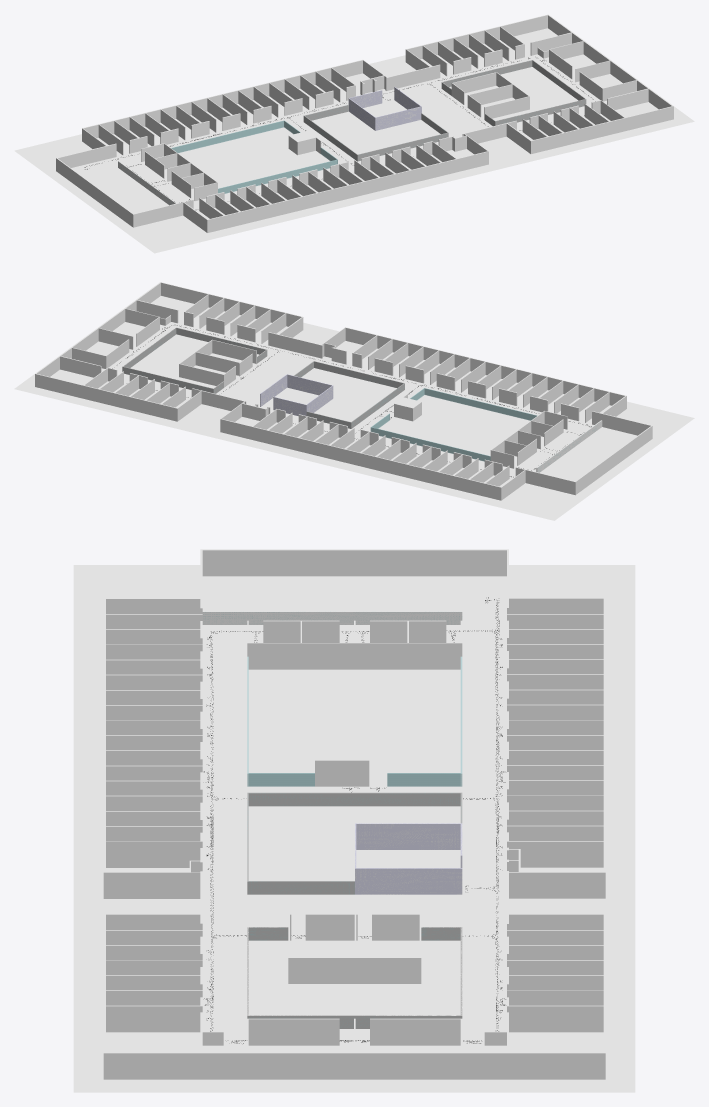
File: cic.dae
3 renders of one model, top to bottom at view 1: azimuth 30°, elevation 25°; view 2: azimuth 150°, elevation 25°; view 3: azimuth 270°, elevation 25°, orthographic. The views are drawn at different scales.
Parts seen in each view (by area): view 1: SketchUp (×14), vidro (×2); view 2: SketchUp (×14), vidro (×2); view 3: SketchUp (×14), vidro (×2).
Part boxes in pixels (left/top/right/bottom): SketchUp (×14): left=14, top=14, right=694, bottom=253; vidro (×2): left=441, top=60, right=586, bottom=126; SketchUp (×14): left=14, top=282, right=694, bottom=520; vidro (×2): left=122, top=328, right=267, bottom=393; SketchUp (×14): left=73, top=549, right=635, bottom=1092; vidro (×2): left=247, top=927, right=462, bottom=1028.
Size of the model in its own units: 3406 by 1533 by 80.24.
